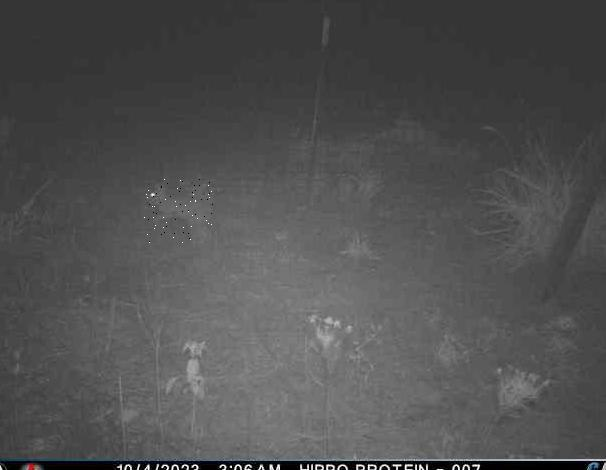Rabbit: (144, 178, 213, 243)
